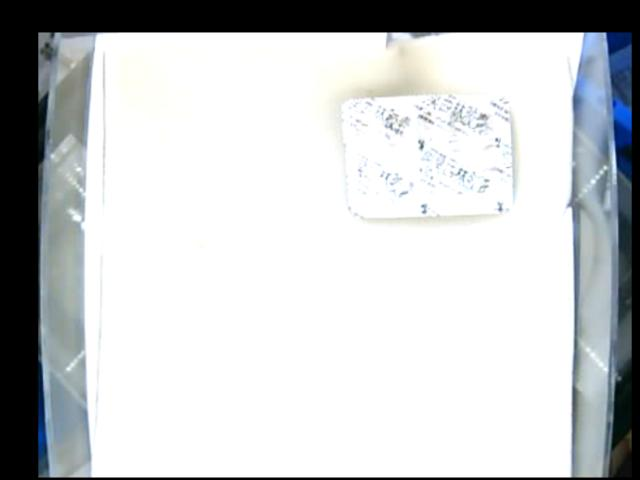Medicine: (339, 91, 515, 216)
